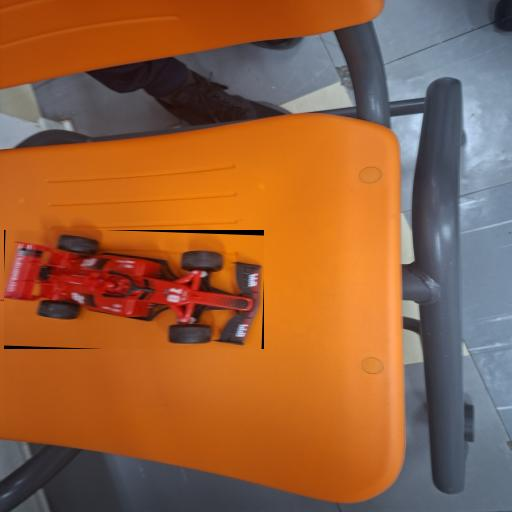carro: (4, 230, 264, 349)
